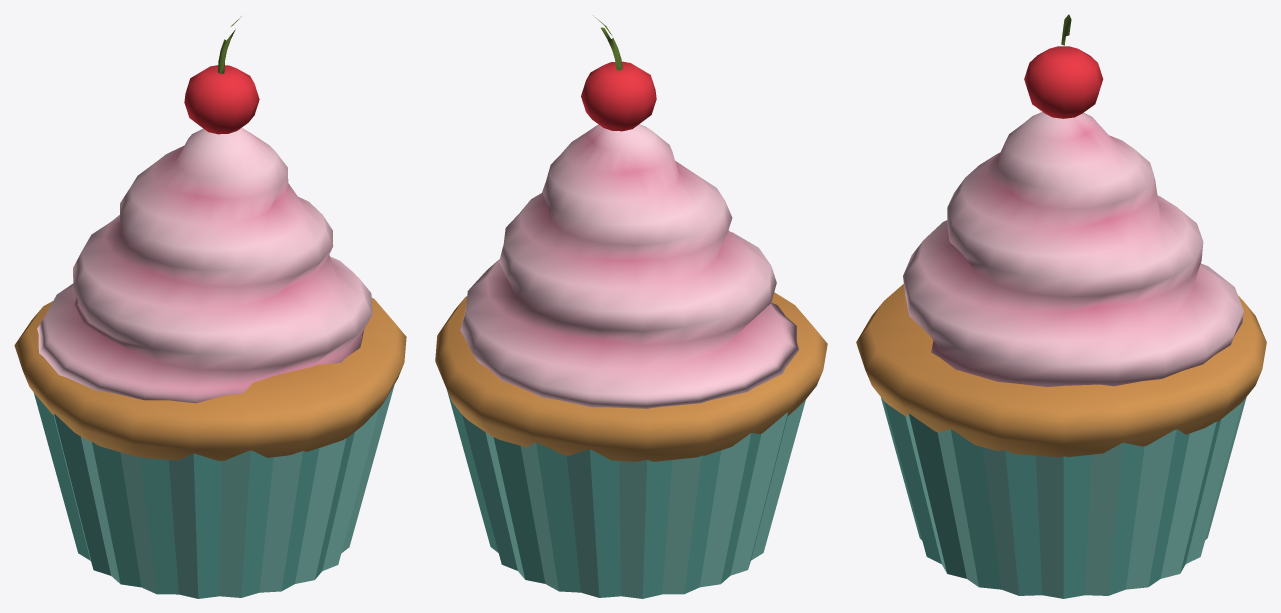
Rendered from cupcake.glb.
3 renders of one model, left to right at view 1: azimuth 30°, elevation 25°; view 2: azimuth 150°, elevation 25°; view 3: azimuth 270°, elevation 25°, orthographic. The views are drawn at different scales.
Parts seen in each view (by area): view 1: cupcake-frosting, cupcake-wrapper, cupcake-sponge, cupcake-cherry; view 2: cupcake-frosting, cupcake-wrapper, cupcake-sponge, cupcake-cherry; view 3: cupcake-frosting, cupcake-wrapper, cupcake-sponge, cupcake-cherry.
Boxes of the visible parts, box(x1,y1,x2,y2) form: cupcake-frosting: box(37, 127, 372, 403); cupcake-wrapper: box(34, 385, 394, 598); cupcake-sponge: box(14, 298, 406, 460); cupcake-cherry: box(184, 16, 259, 134); cupcake-frosting: box(460, 124, 799, 408); cupcake-wrapper: box(447, 391, 805, 598); cupcake-sponge: box(435, 292, 827, 461); cupcake-cherry: box(581, 15, 656, 131); cupcake-frosting: box(903, 112, 1243, 386); cupcake-wrapper: box(881, 397, 1246, 598); cupcake-sponge: box(856, 284, 1266, 457); cupcake-cherry: box(1024, 14, 1103, 118).
Size of the model in its own units: 0.6875 by 1 by 0.6875.
